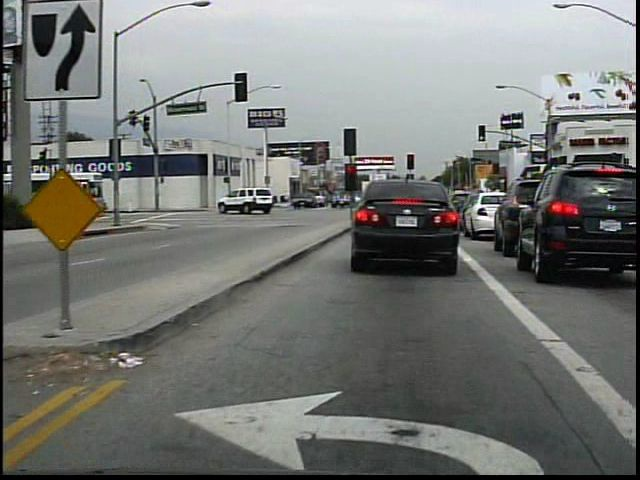person: (81, 189, 101, 226)
